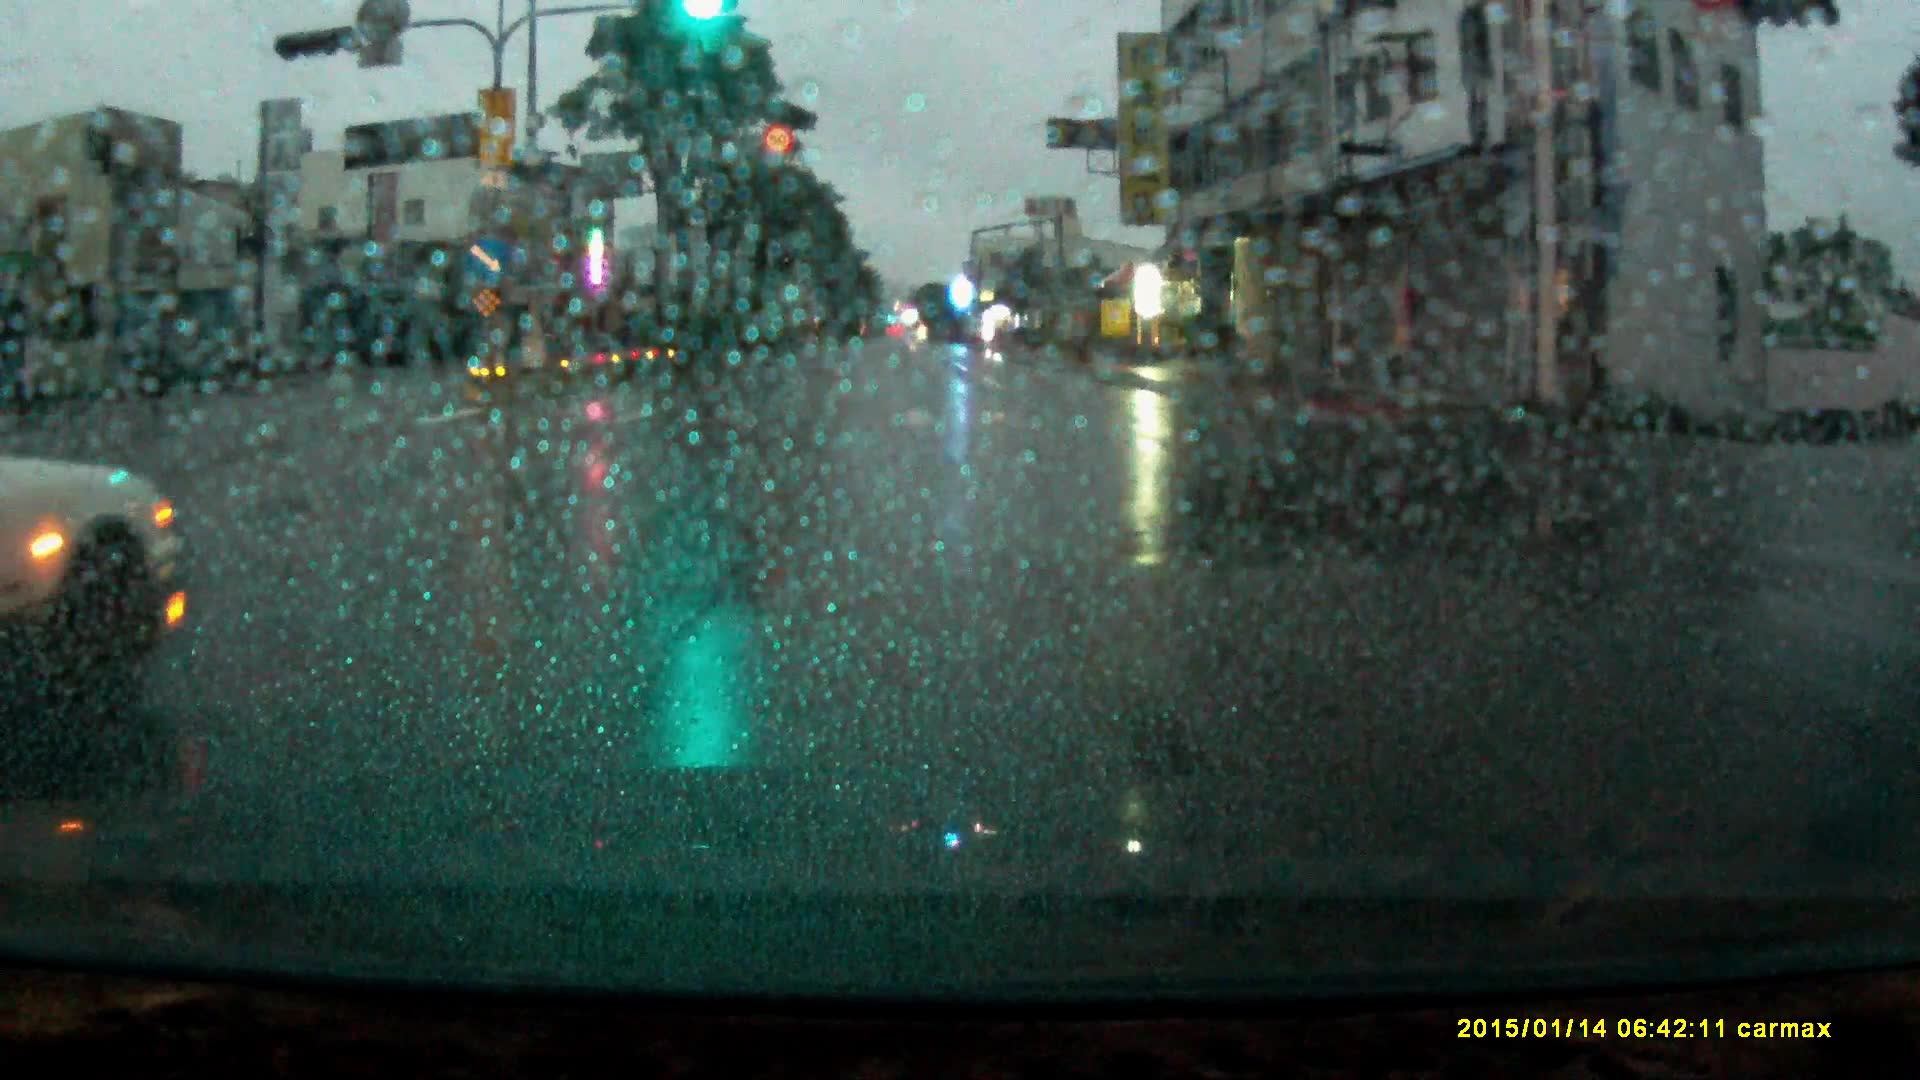vehicle: (1, 442, 189, 724)
